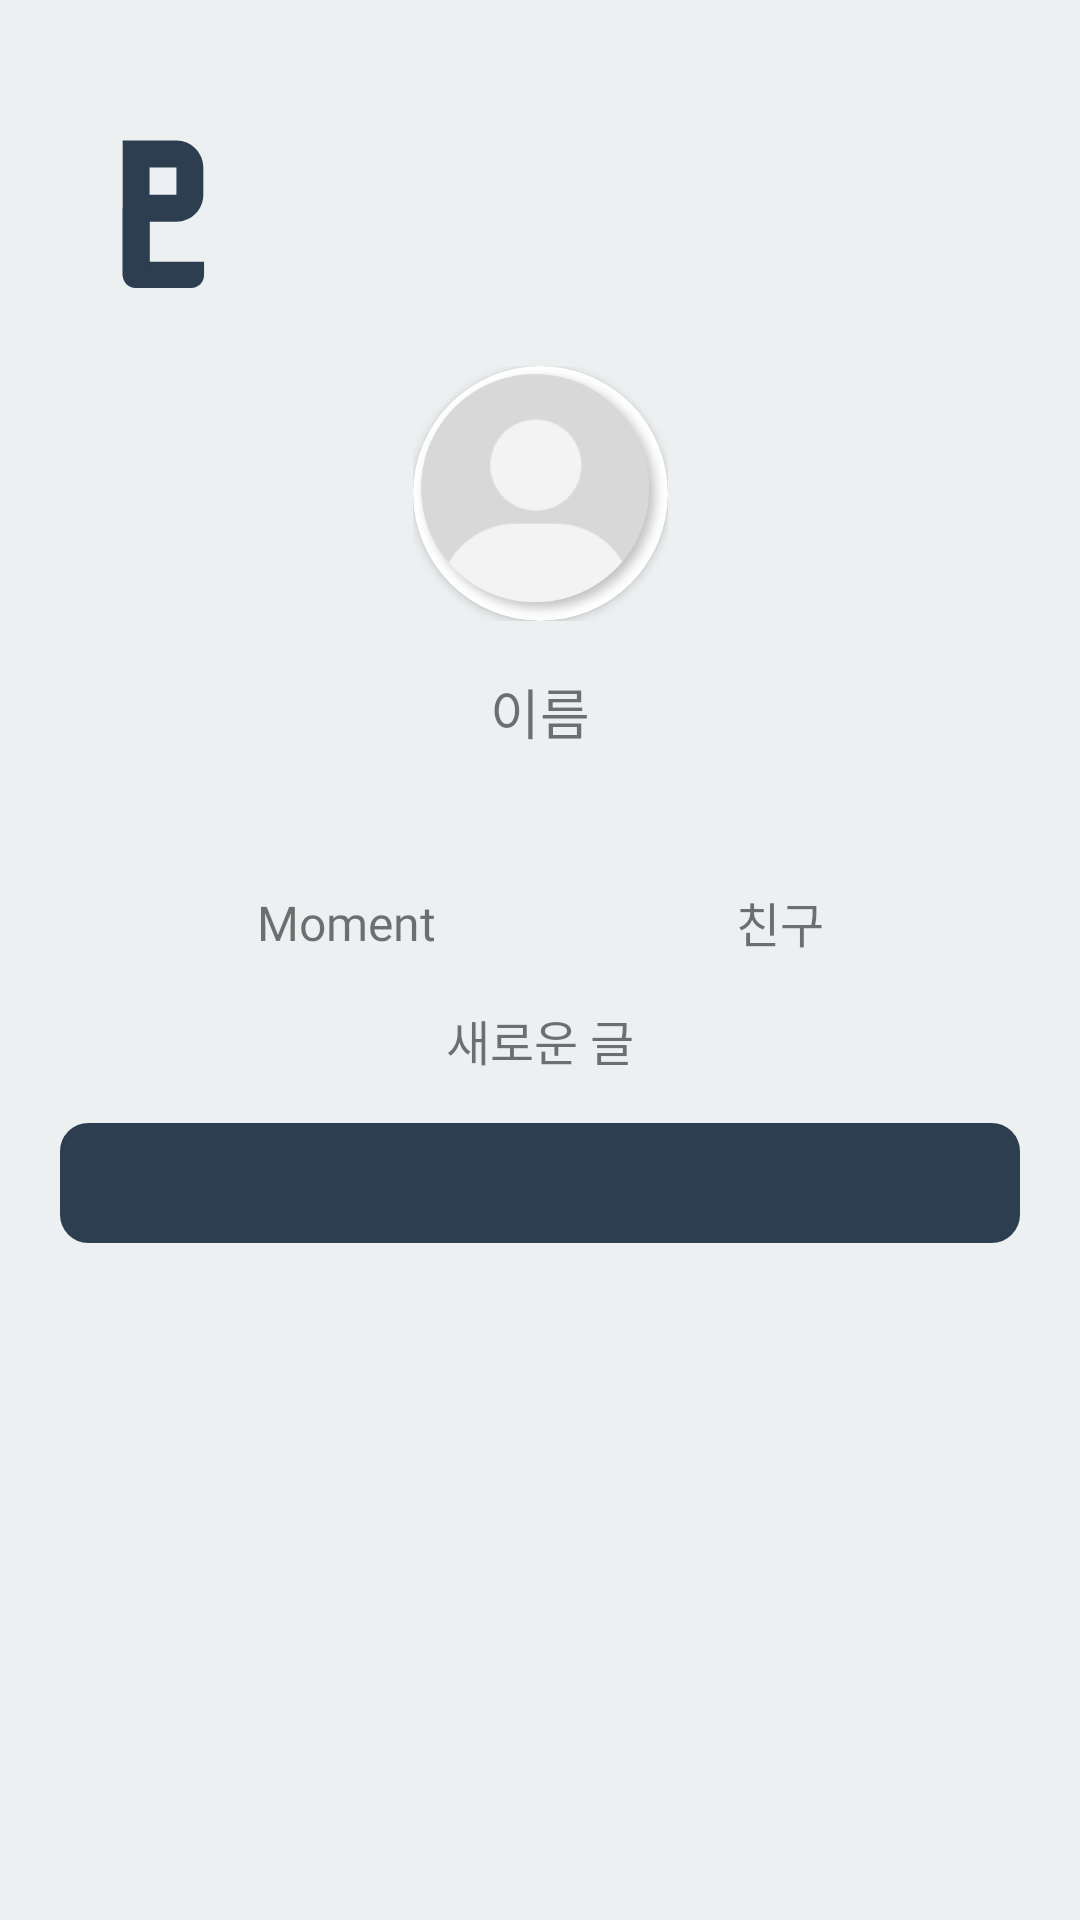

Icon click points for this 1080 × 1920 phone screenshot, format (x,y):
myprofile: (540,497)
